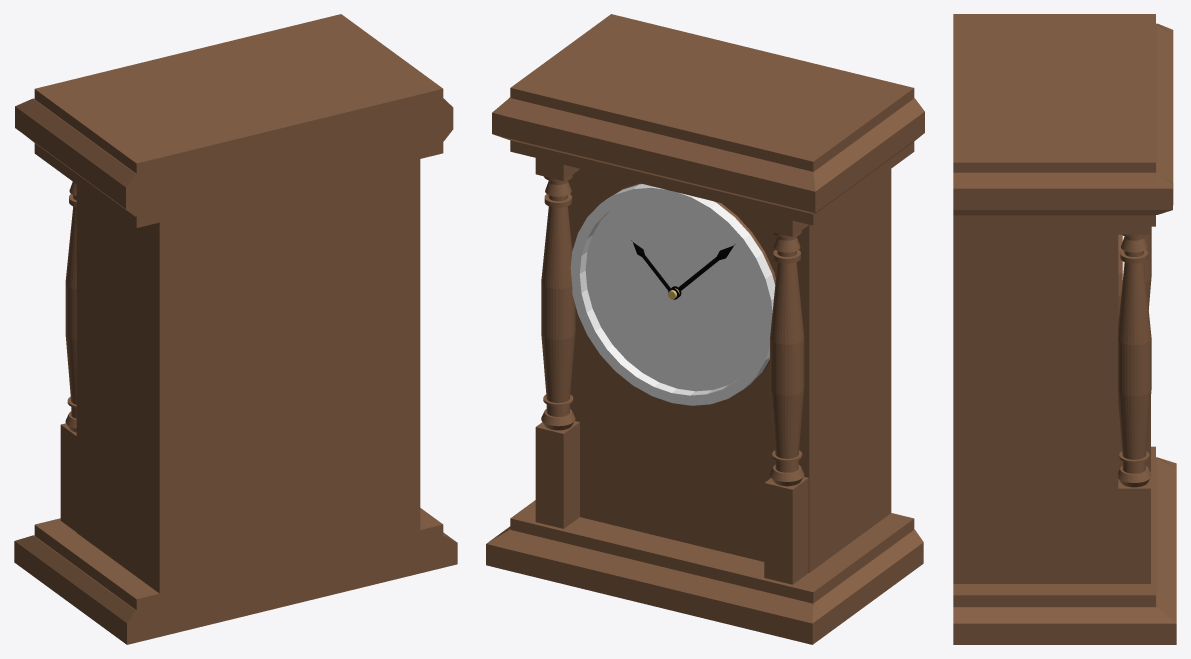
Rendered from Clock.fbx.
3 renders of one model, left to right at view 1: azimuth 30°, elevation 25°; view 2: azimuth 150°, elevation 25°; view 3: azimuth 270°, elevation 25°, orthographic.
Visible parts, largest first — view 1: Clock; view 2: Clock; view 3: Clock.
Part boxes in pixels (<box>): Clock: <box>14,14,457,644</box>; Clock: <box>486,14,924,644</box>; Clock: <box>953,14,1176,644</box>.
Size of the model in its own units: 323 by 446 by 190.
